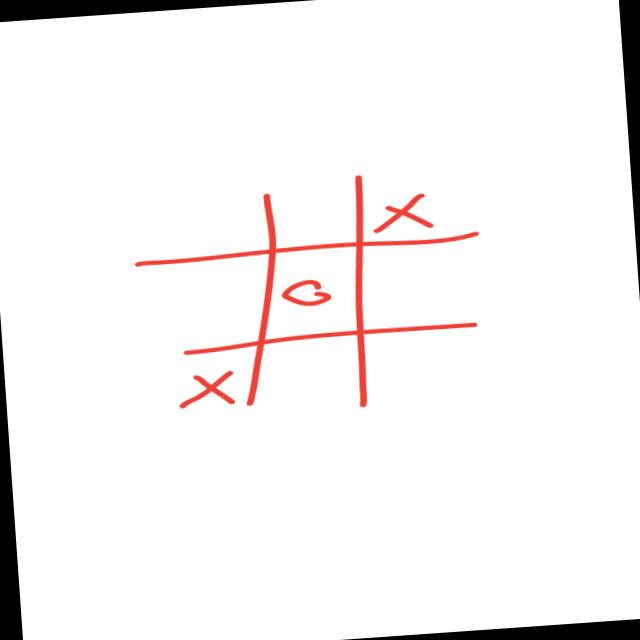O: (276, 265, 346, 323)
X: (165, 357, 248, 423), (368, 175, 437, 238)
grid: (111, 160, 502, 440)
